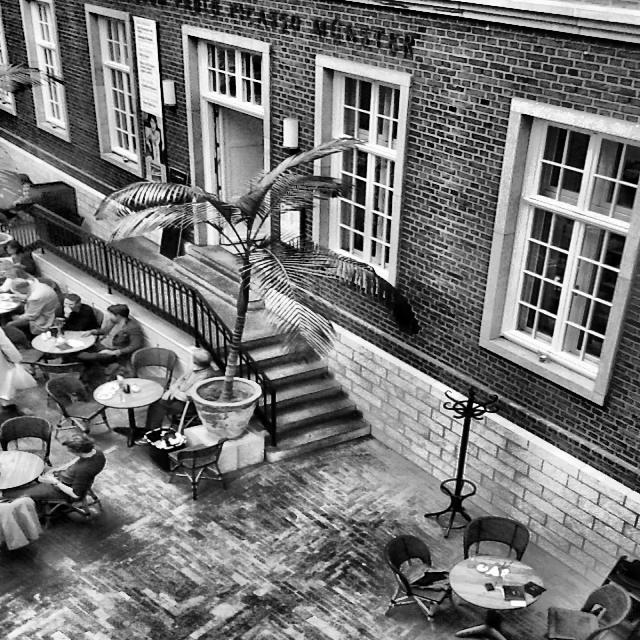escada: (205, 332, 373, 460)
